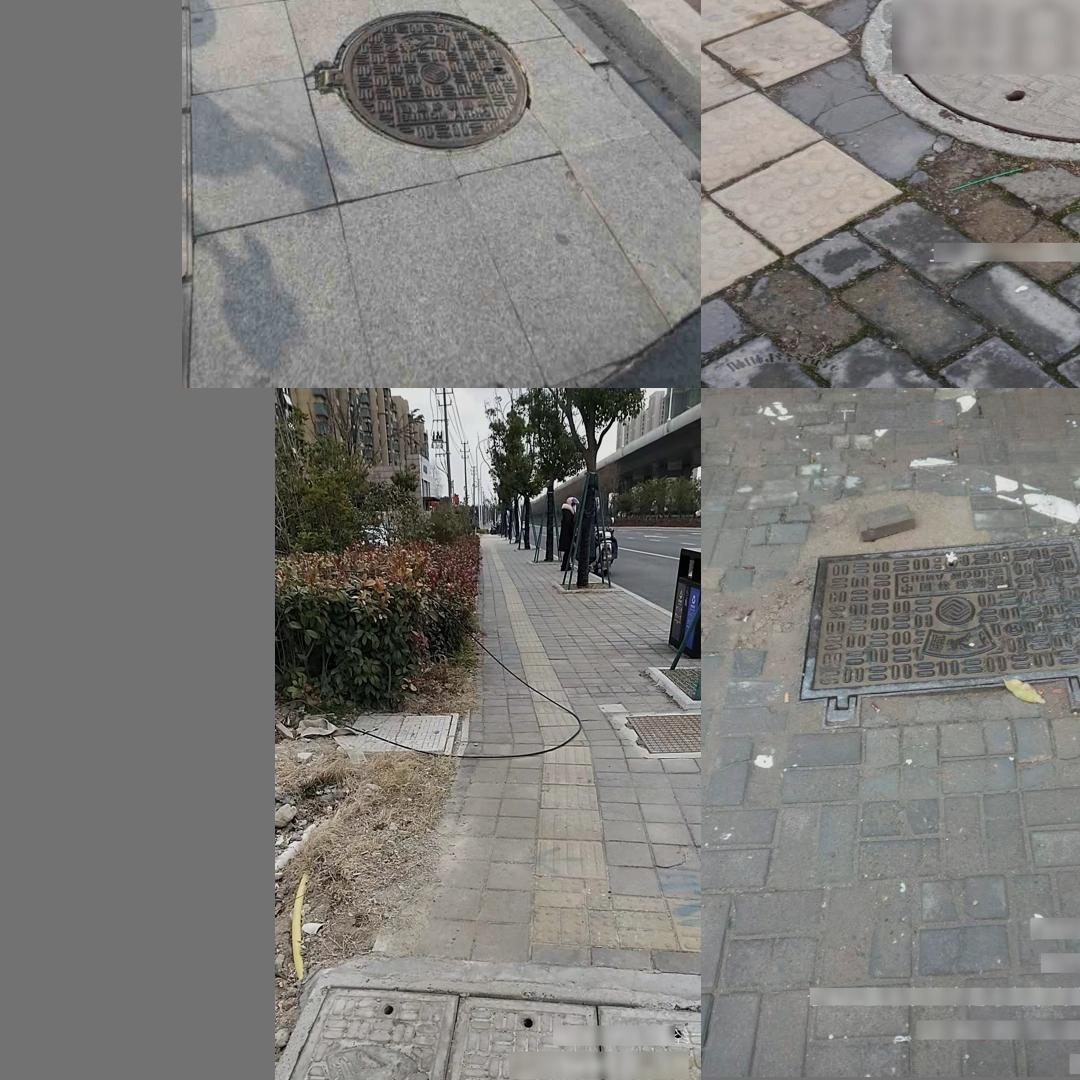good: (799, 534, 1080, 729), (277, 971, 697, 1080), (862, 0, 1080, 163), (320, 10, 530, 148), (333, 708, 460, 757), (620, 709, 700, 757)
